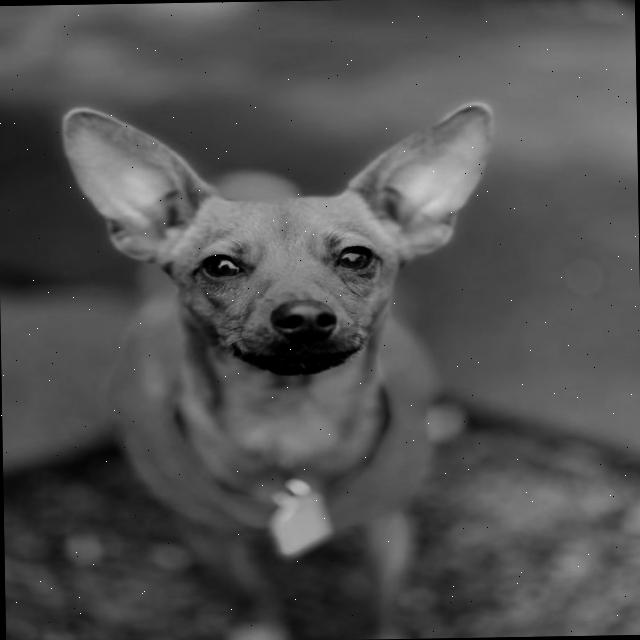chihuahua_dog: (51, 84, 515, 406)
